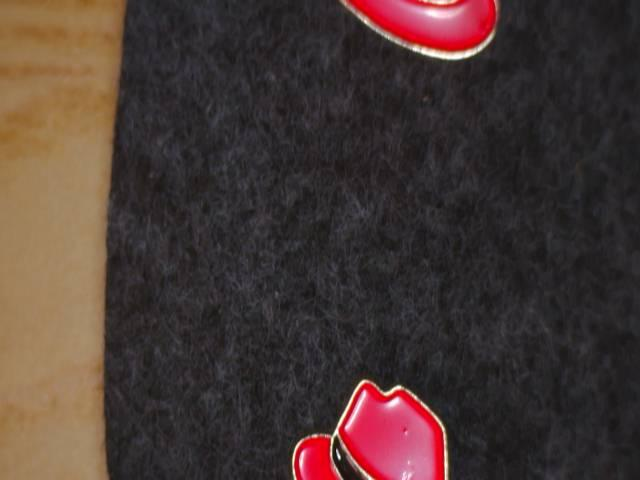Red-Hat: (263, 356, 523, 480), (326, 0, 514, 91)
